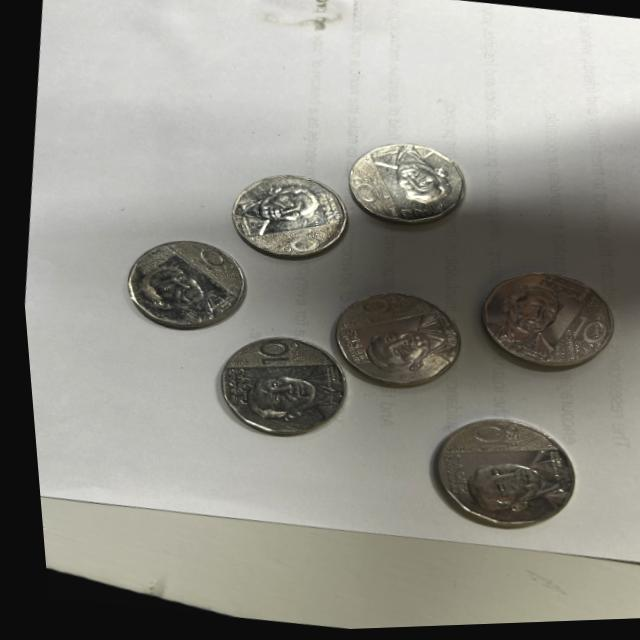10_New_Front: (176, 242, 236, 288), (240, 329, 301, 373), (463, 421, 515, 462), (349, 291, 401, 330), (556, 309, 600, 354), (268, 221, 317, 261), (345, 172, 390, 210)
